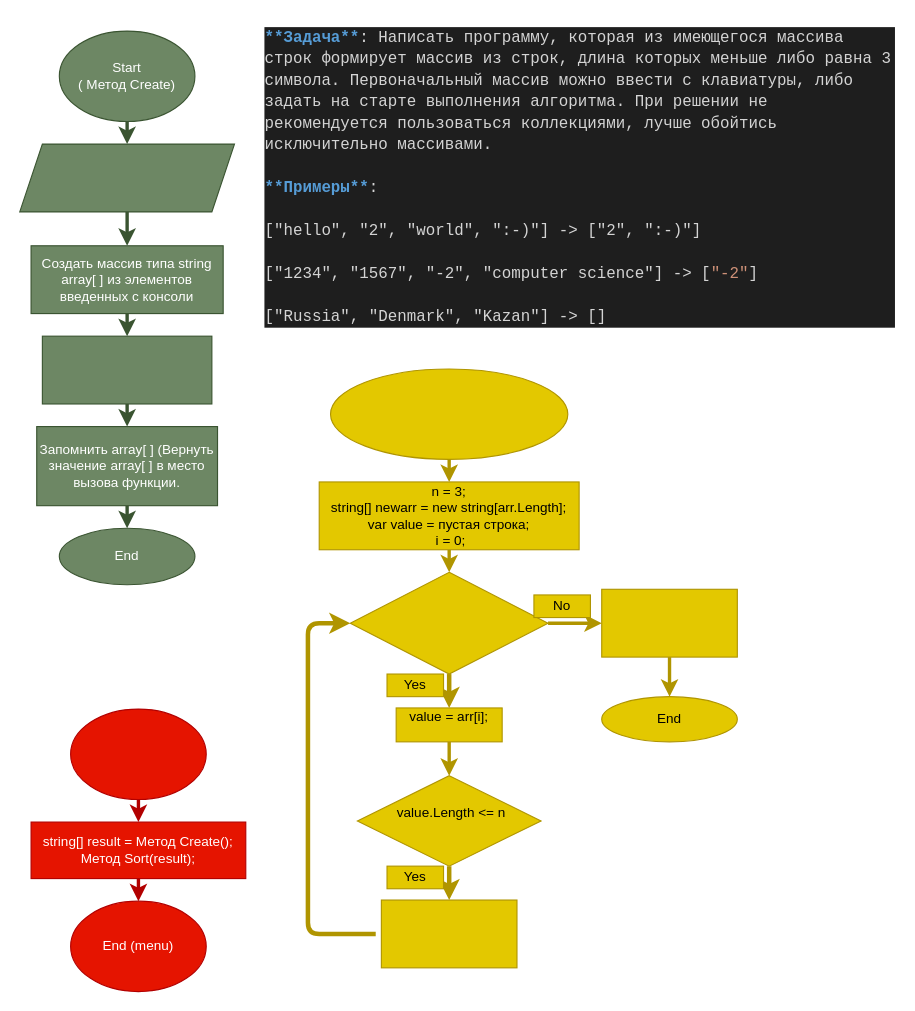
Some shapes in this 915 by 1011 pixel diagram are drawn without their labels. The shapes that lost their labels are listed below. From the top down, each one's box as (x1, y1, x2, y2) in pixels, then its label:
(19, 143, 234, 212): Введите элементы массива через запятую:
(41, 335, 212, 404): Вывести в консоль созданный пользователем массив
(329, 368, 568, 459): Start (Метод Sotr)
(349, 571, 548, 674): i < arr.Length
(601, 588, 737, 657): Console.WriteLine (newarr)
(69, 708, 206, 799): Start (menu)
(380, 899, 517, 968): newarr[i] = arr[i]; i++;
